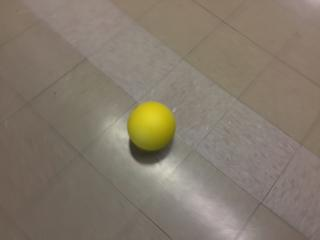power_cell: (126, 99, 180, 153)
